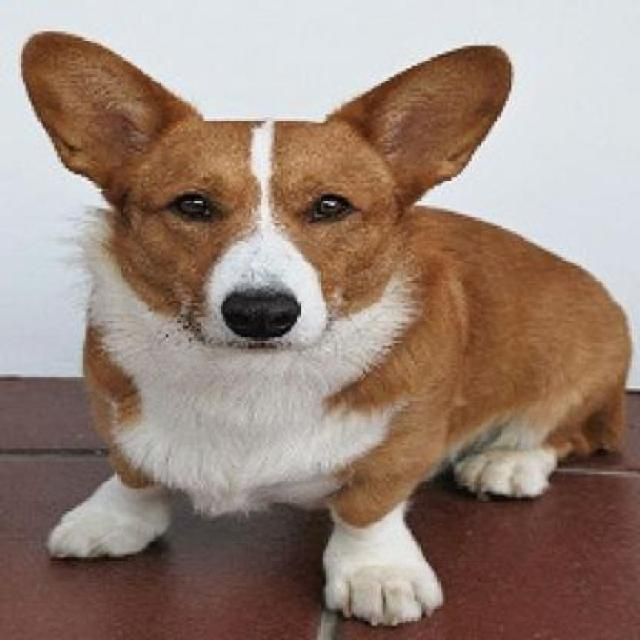Dog: (17, 26, 637, 629)
